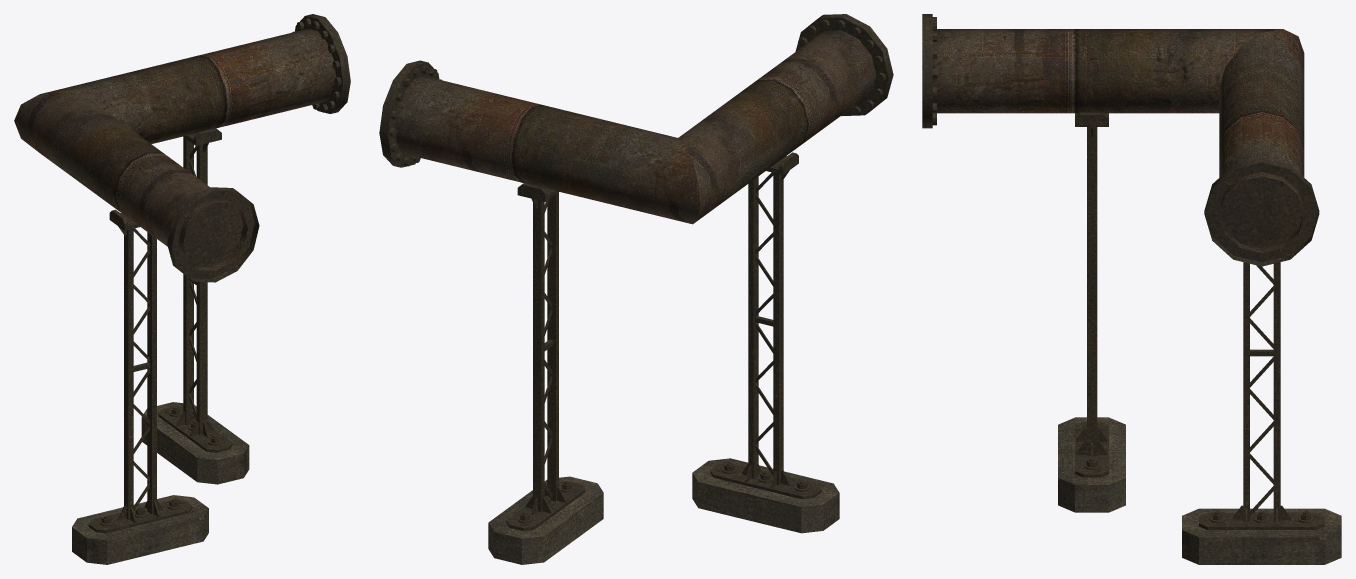
File: pipe_cx_3.glb
The picture shows the model from 3 angles, left to right: view 1: azimuth 30°, elevation 25°; view 2: azimuth 150°, elevation 25°; view 3: azimuth 270°, elevation 25°; orthographic projection. The views are drawn at different scales.
Visible parts, largest first — view 1: pipe_cx_3; view 2: pipe_cx_3; view 3: pipe_cx_3.
Boxes of the visible parts, x1,y1,x2,y2 form: pipe_cx_3: (14, 14, 350, 564); pipe_cx_3: (379, 14, 893, 564); pipe_cx_3: (922, 14, 1341, 564).
Size of the model in its own units: 2.47 by 2.99 by 2.47.
Materials: 3 (3 with a texture image).
